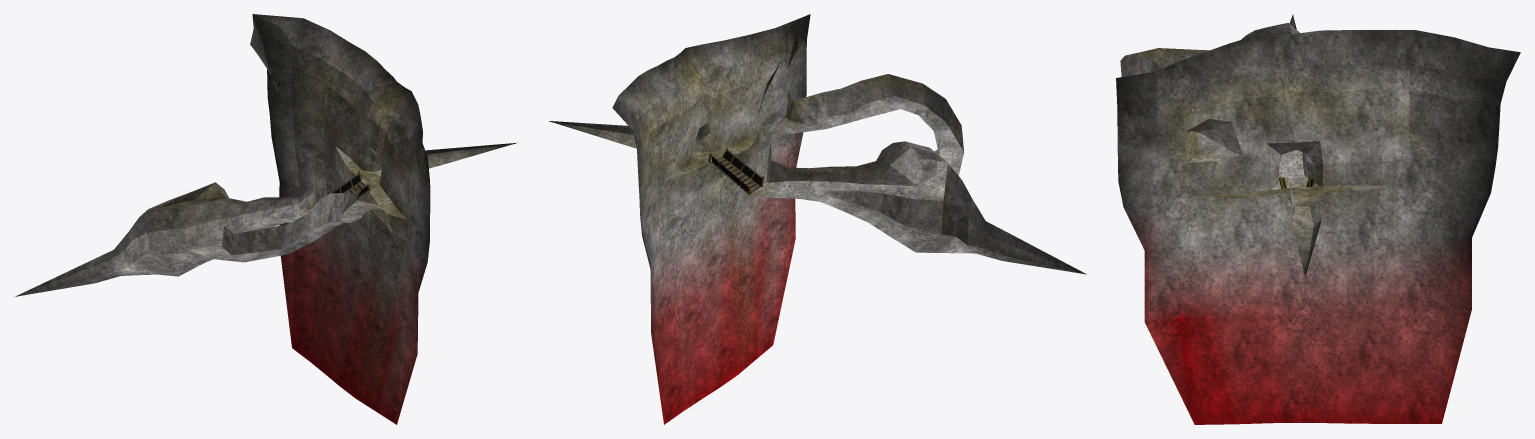
File: test_cave.glb
The picture shows the model from 3 angles, left to right: view 1: azimuth 30°, elevation 25°; view 2: azimuth 150°, elevation 25°; view 3: azimuth 270°, elevation 25°; orthographic projection. The views are drawn at different scales.
Visible parts, largest first — view 1: Cave; view 2: Cave; view 3: Cave.
Part boxes in pixels (<box>): Cave: <box>15,14,517,424</box>; Cave: <box>549,14,1086,424</box>; Cave: <box>1116,14,1520,424</box>.
Bounding box in the file's own units: 121 × 70.58 × 70.17.
4 materials, 4 textured.
